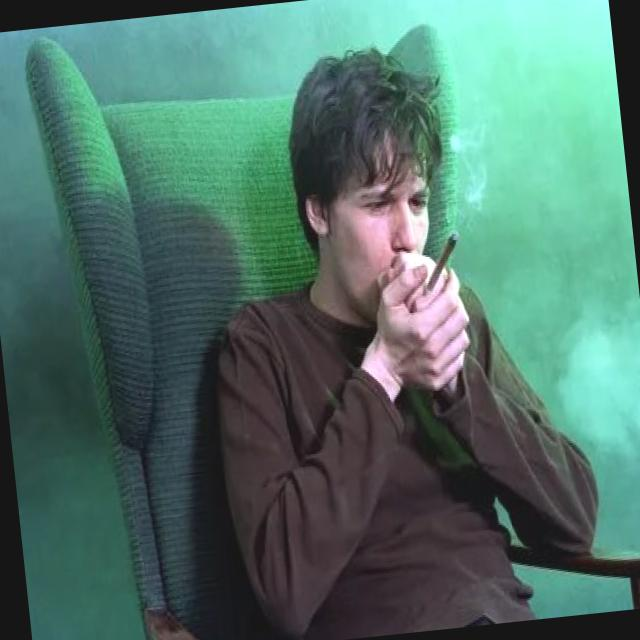smoke: (404, 227, 470, 300)
